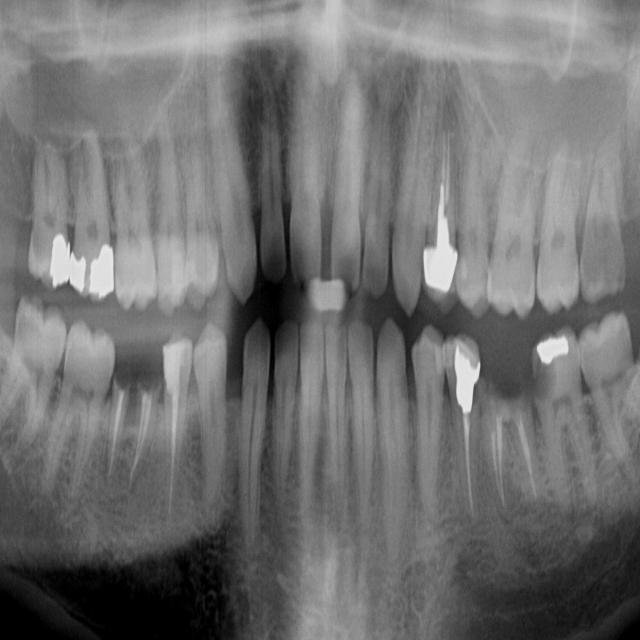infected-teeth: (441, 329, 489, 547), (157, 334, 192, 536), (425, 108, 459, 312)
